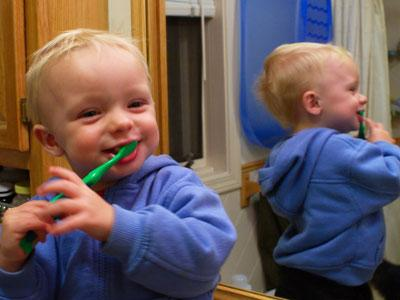person: (2, 29, 237, 300)
